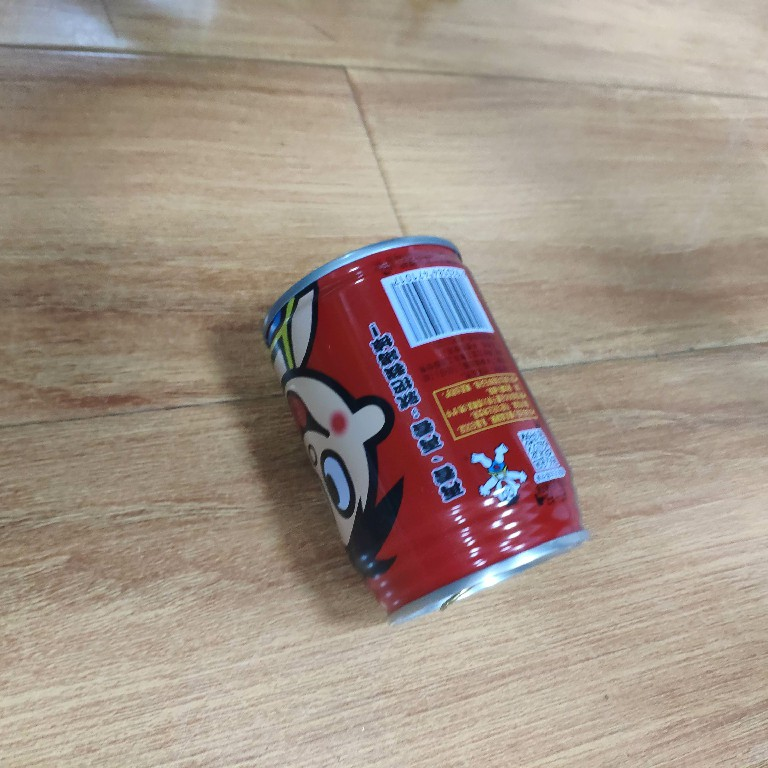can: (258, 230, 594, 629)
